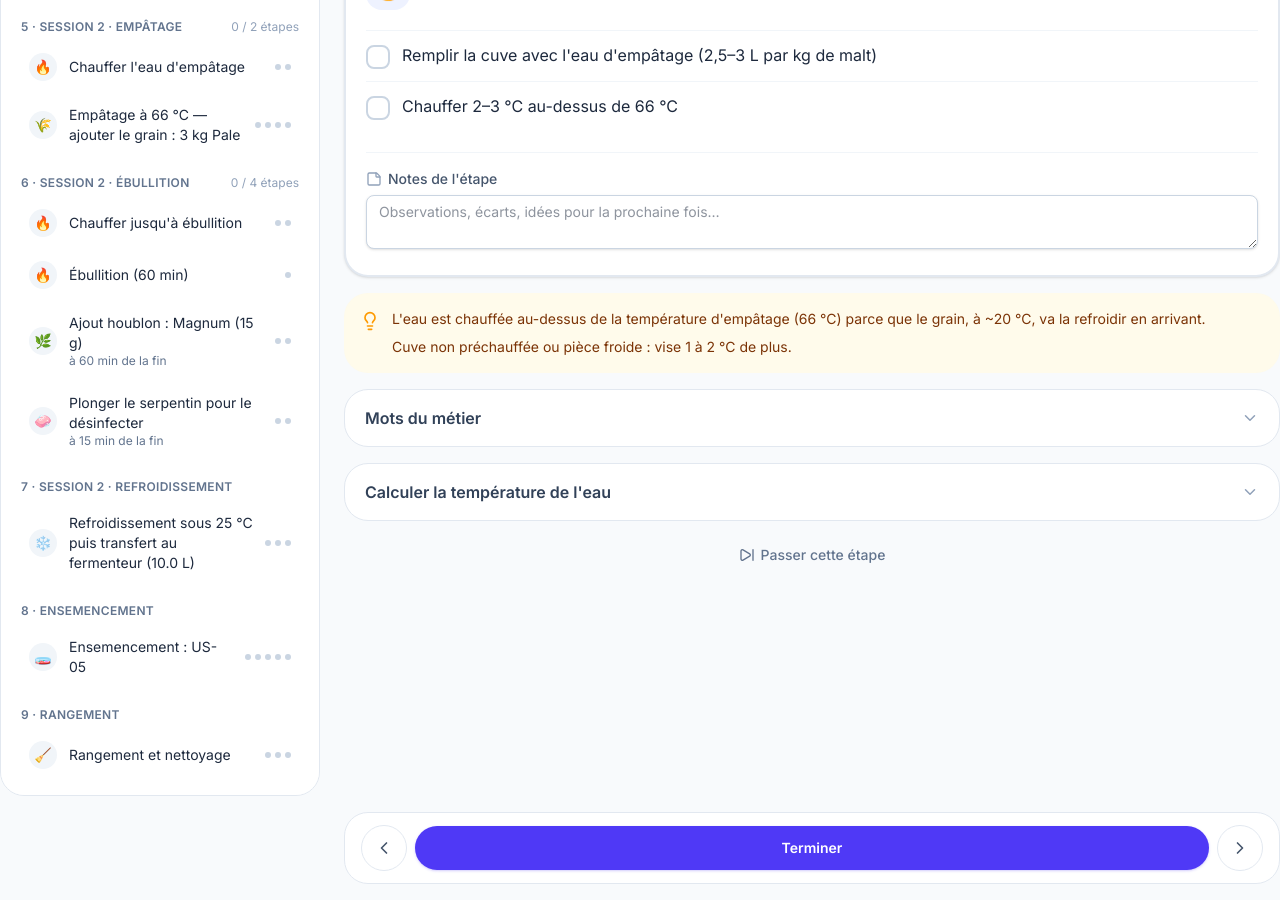
Scenario: Brew Day en 2 sessions › les deux sessions mesurées : DI du mélange pondérée par les volumes versés, reprise d’un clic
(page scrolled)
Click the text "Ensemencement : US-05".
click(151, 657)  # box [69, 637, 233, 677]
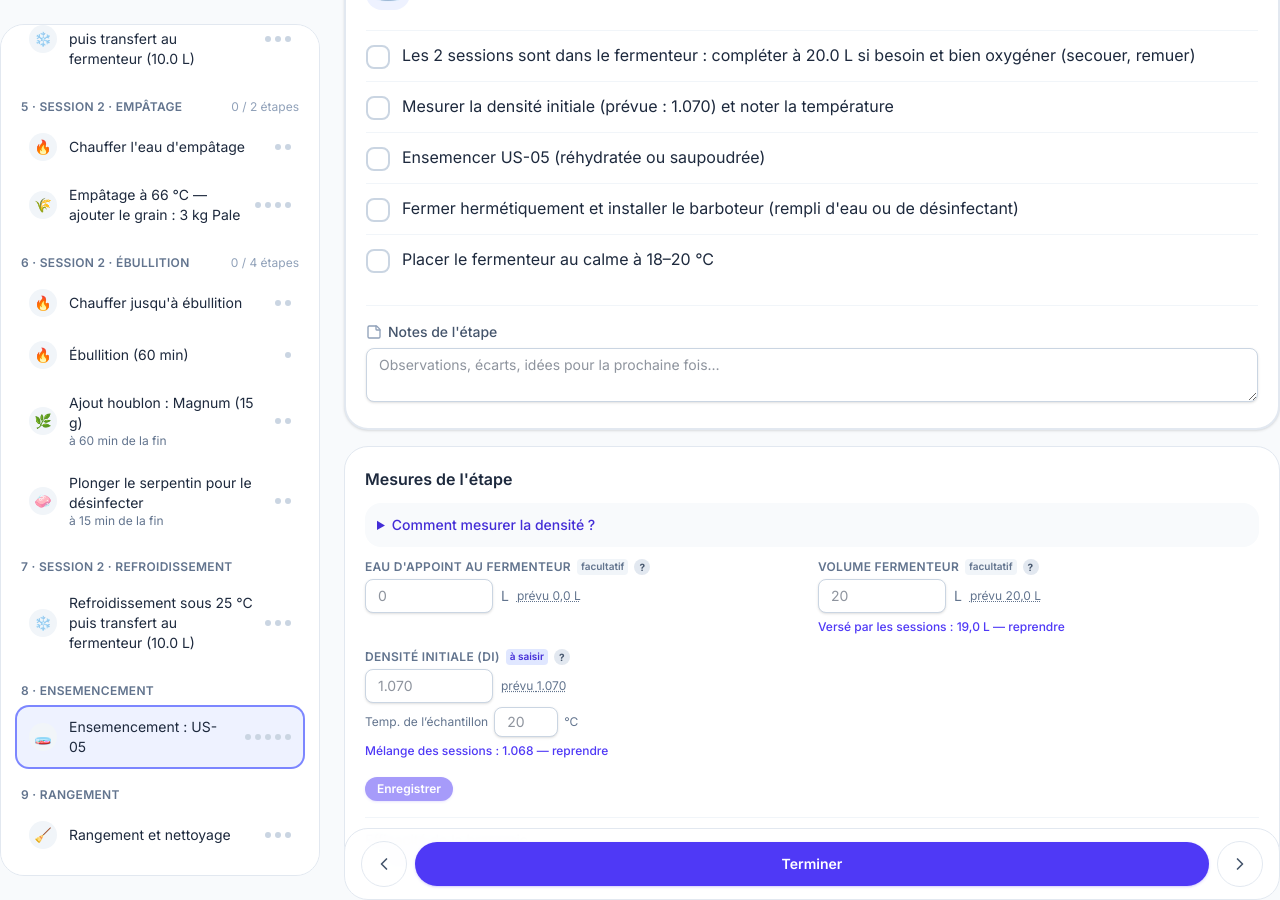
Click the button "Mélange des sessions : 1.068 — reprendre".
click(487, 751)  # box [365, 743, 608, 759]
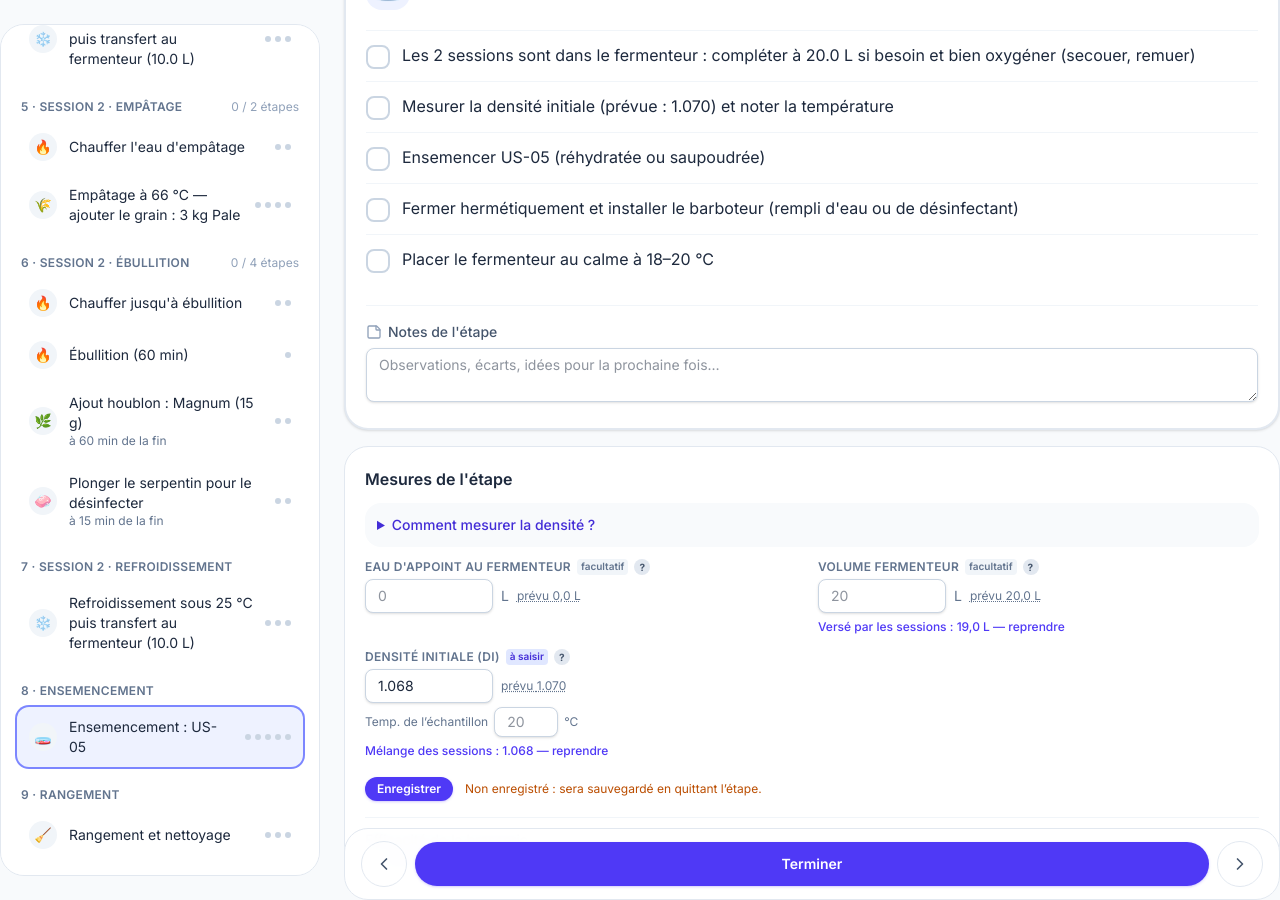
expect the button "Versé par les sessions : 19,0 L — reprendre" is shown: met, box [818, 619, 1065, 635]
expect the number field named "Densité initiale (DI)" holds "1.068": met, box [365, 669, 493, 703]
